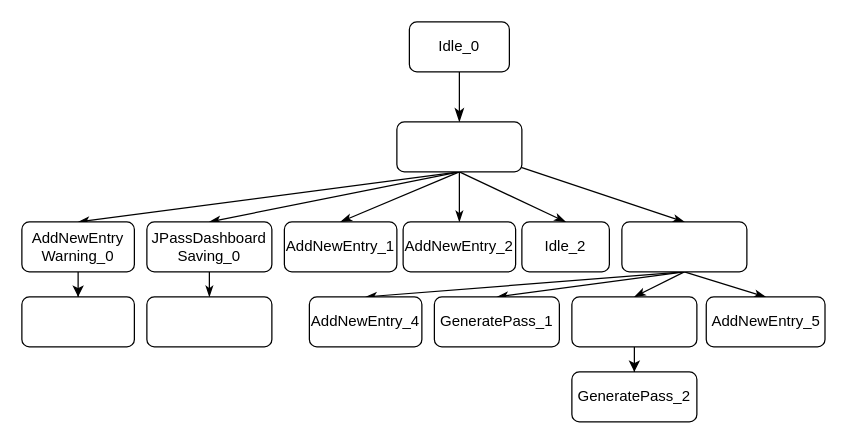
Some shapes in this 848 by 444 pixel diagram are drawn without their labels. Each missing label, with the box of its shape:
AddNewEntry_0: (396, 121, 522, 172)
AddNewEntry_3: (21, 296, 134, 347)
GeneratePass Warning_0: (571, 296, 697, 347)
GeneratePass_0: (621, 221, 747, 272)
Idle_1: (146, 296, 272, 347)
